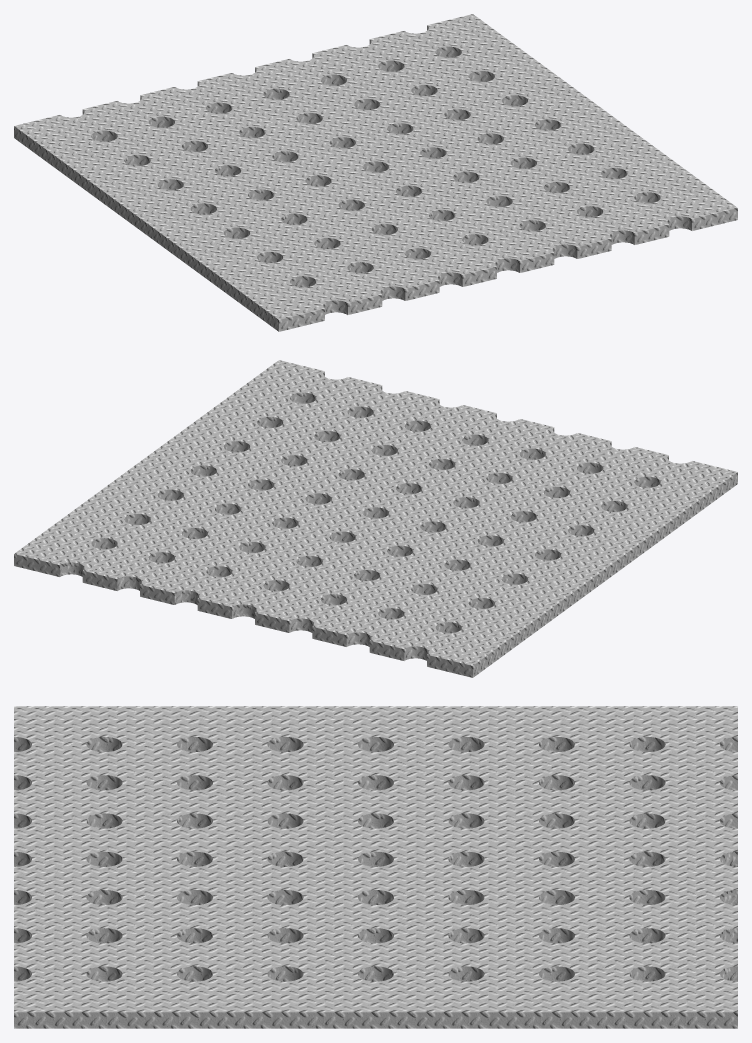
File: Walkway.fbx
3 views of the same model, one above another, from view 1: azimuth 30°, elevation 25°; view 2: azimuth 150°, elevation 25°; view 3: azimuth 270°, elevation 25° (orthographic). The views are drawn at different scales.
Parts seen in each view (by area): view 1: Model; view 2: Model; view 3: Model.
Boxes of the visible parts, bbox=[...] form: Model: bbox=[14, 14, 737, 331]; Model: bbox=[14, 360, 737, 677]; Model: bbox=[14, 706, 737, 1028].
Size of the model in its own units: 20 by 0.5 by 20.
